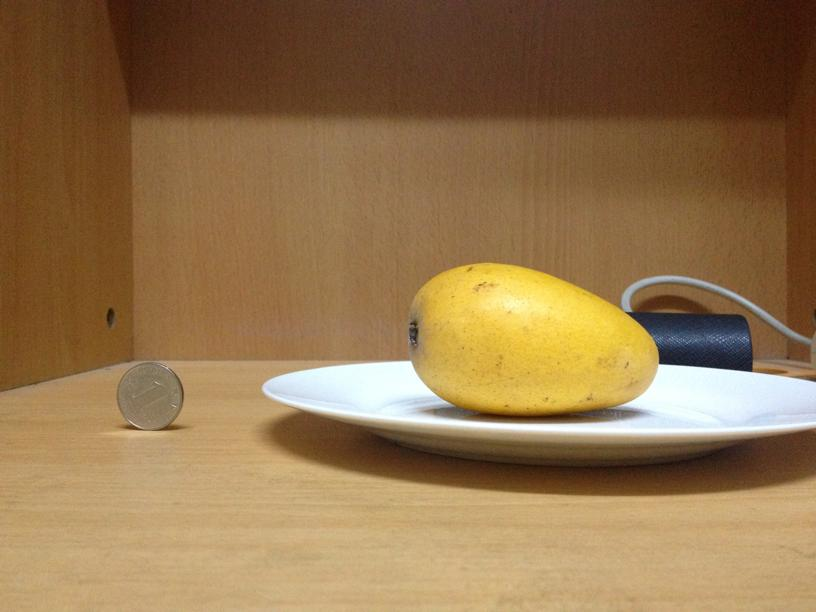coin: (119, 363, 183, 429)
mango: (403, 259, 661, 416)
